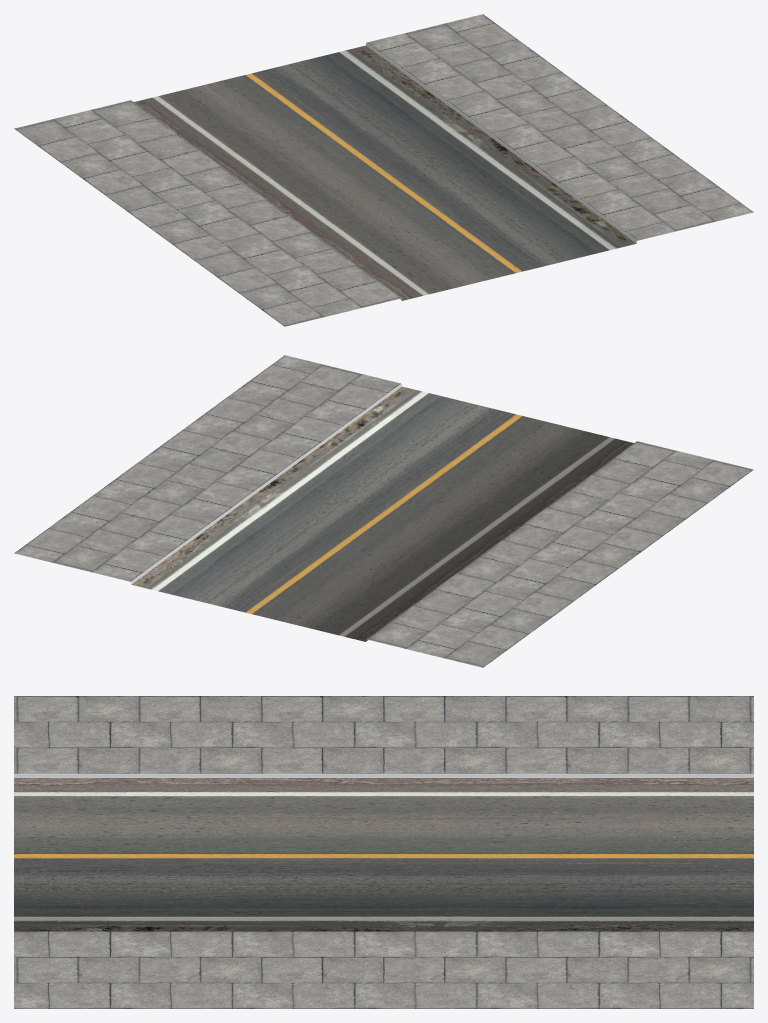
File: StraightRoad.FBX
The picture shows the model from 3 angles, top to bottom: view 1: azimuth 30°, elevation 25°; view 2: azimuth 150°, elevation 25°; view 3: azimuth 270°, elevation 25°; orthographic projection. The views are drawn at different scales.
Parts seen in each view (by area): view 1: Plane005; view 2: Plane005; view 3: Plane005.
Part boxes in pixels (left/top/right/bottom): Plane005: left=14, top=14, right=753, bottom=326; Plane005: left=14, top=355, right=753, bottom=667; Plane005: left=14, top=696, right=753, bottom=1008.
Bounding box in the file's own units: 1230 × 6.94 × 1230.
